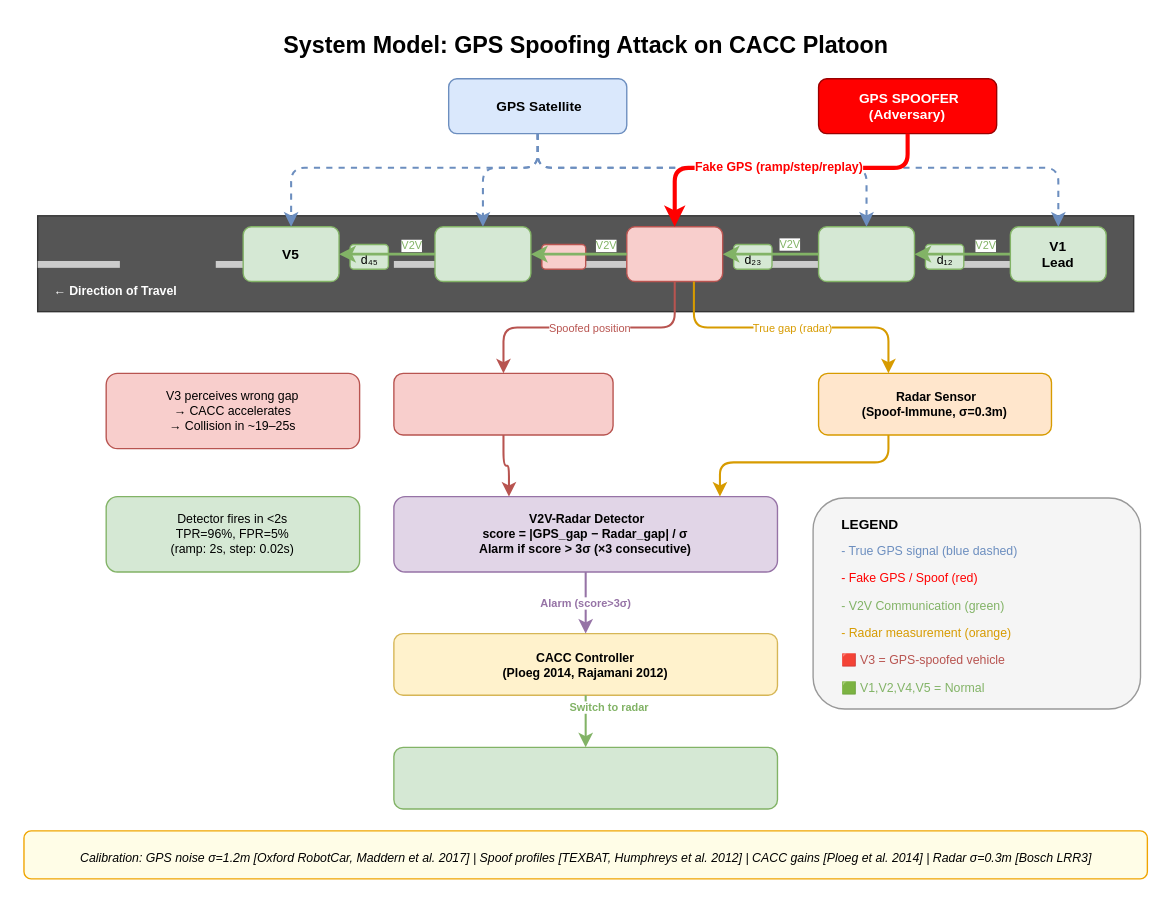
Some shapes in this 1171 by 903 pixel diagram are drawn without their labels. The box of each missing label's shape, as (x1, y1, x2, y2) in pixels:
d₃₄: (540, 243, 586, 269)
GPS Receiver (Spoofed, σ=1.2m): (393, 372, 613, 435)
Mitigation Switch: GPS gap → Radar gap: (393, 746, 777, 809)
V2: (817, 225, 914, 282)
V3 ⚠ ATTACKED: (625, 225, 723, 282)
V4: (434, 225, 531, 282)
